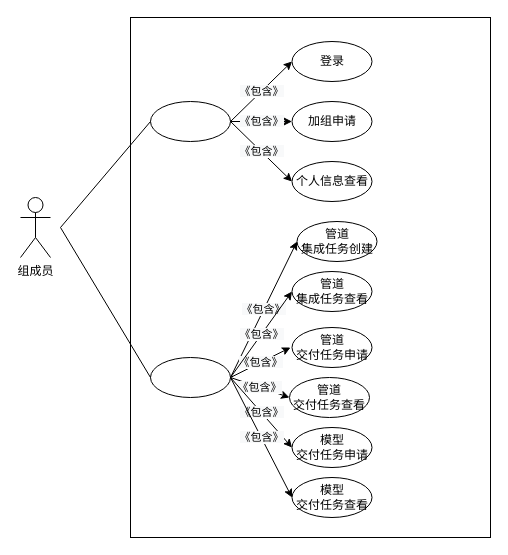
The diagram is 508 pixels wide and 555 high, and some of its shapes have lost their labels. The shapes that lost their labels are listed below. From the top down, each one's centre as x and y in pixels, then its label:
the point at 190,121: 个人中心
the point at 190,377: CI/CD任务管理
